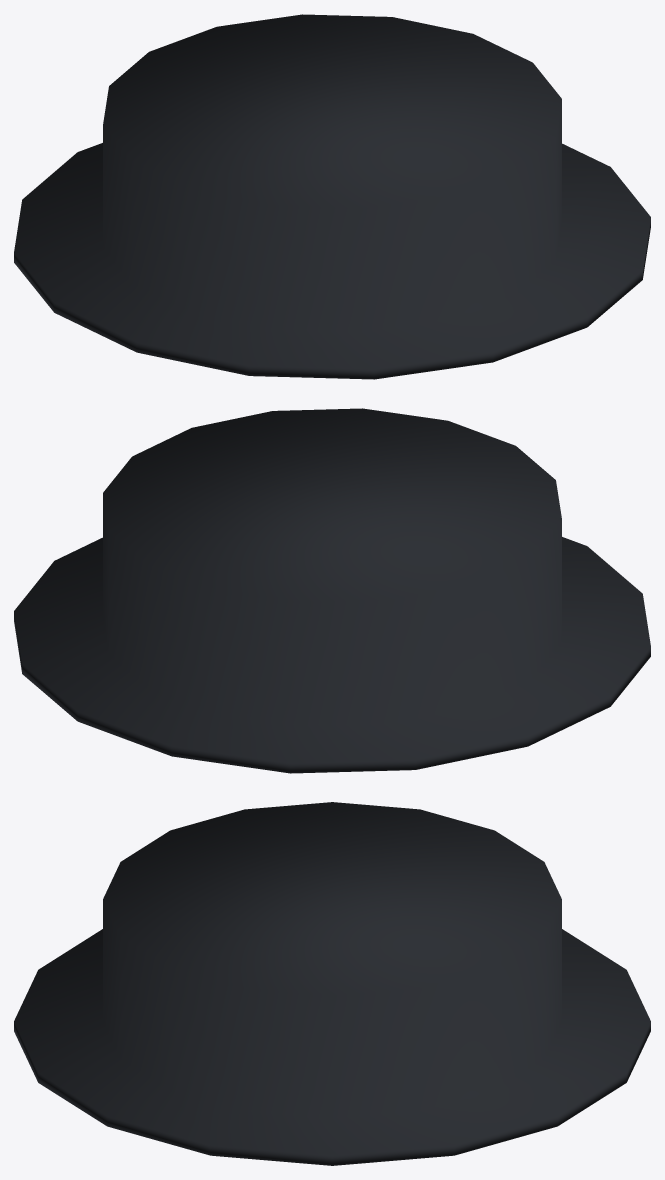
File: hatSalesman.fbx
The picture shows the model from 3 angles, top to bottom: view 1: azimuth 30°, elevation 25°; view 2: azimuth 150°, elevation 25°; view 3: azimuth 270°, elevation 25°; orthographic projection.
Parts seen in each view (by area): view 1: Circle; view 2: Circle; view 3: Circle.
Part boxes in pixels (x1,y1,x2,y2): Circle: (14, 14, 650, 379); Circle: (14, 408, 650, 773); Circle: (14, 802, 650, 1165).
Size of the model in its own units: 0.84 by 0.1926 by 0.84.
Materials: 1 (1 with a texture image).
